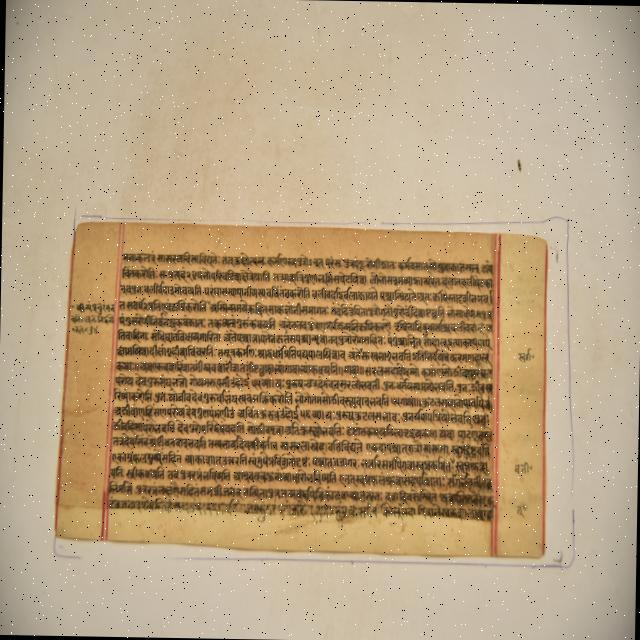text_paragraph: (53, 225, 545, 556)
